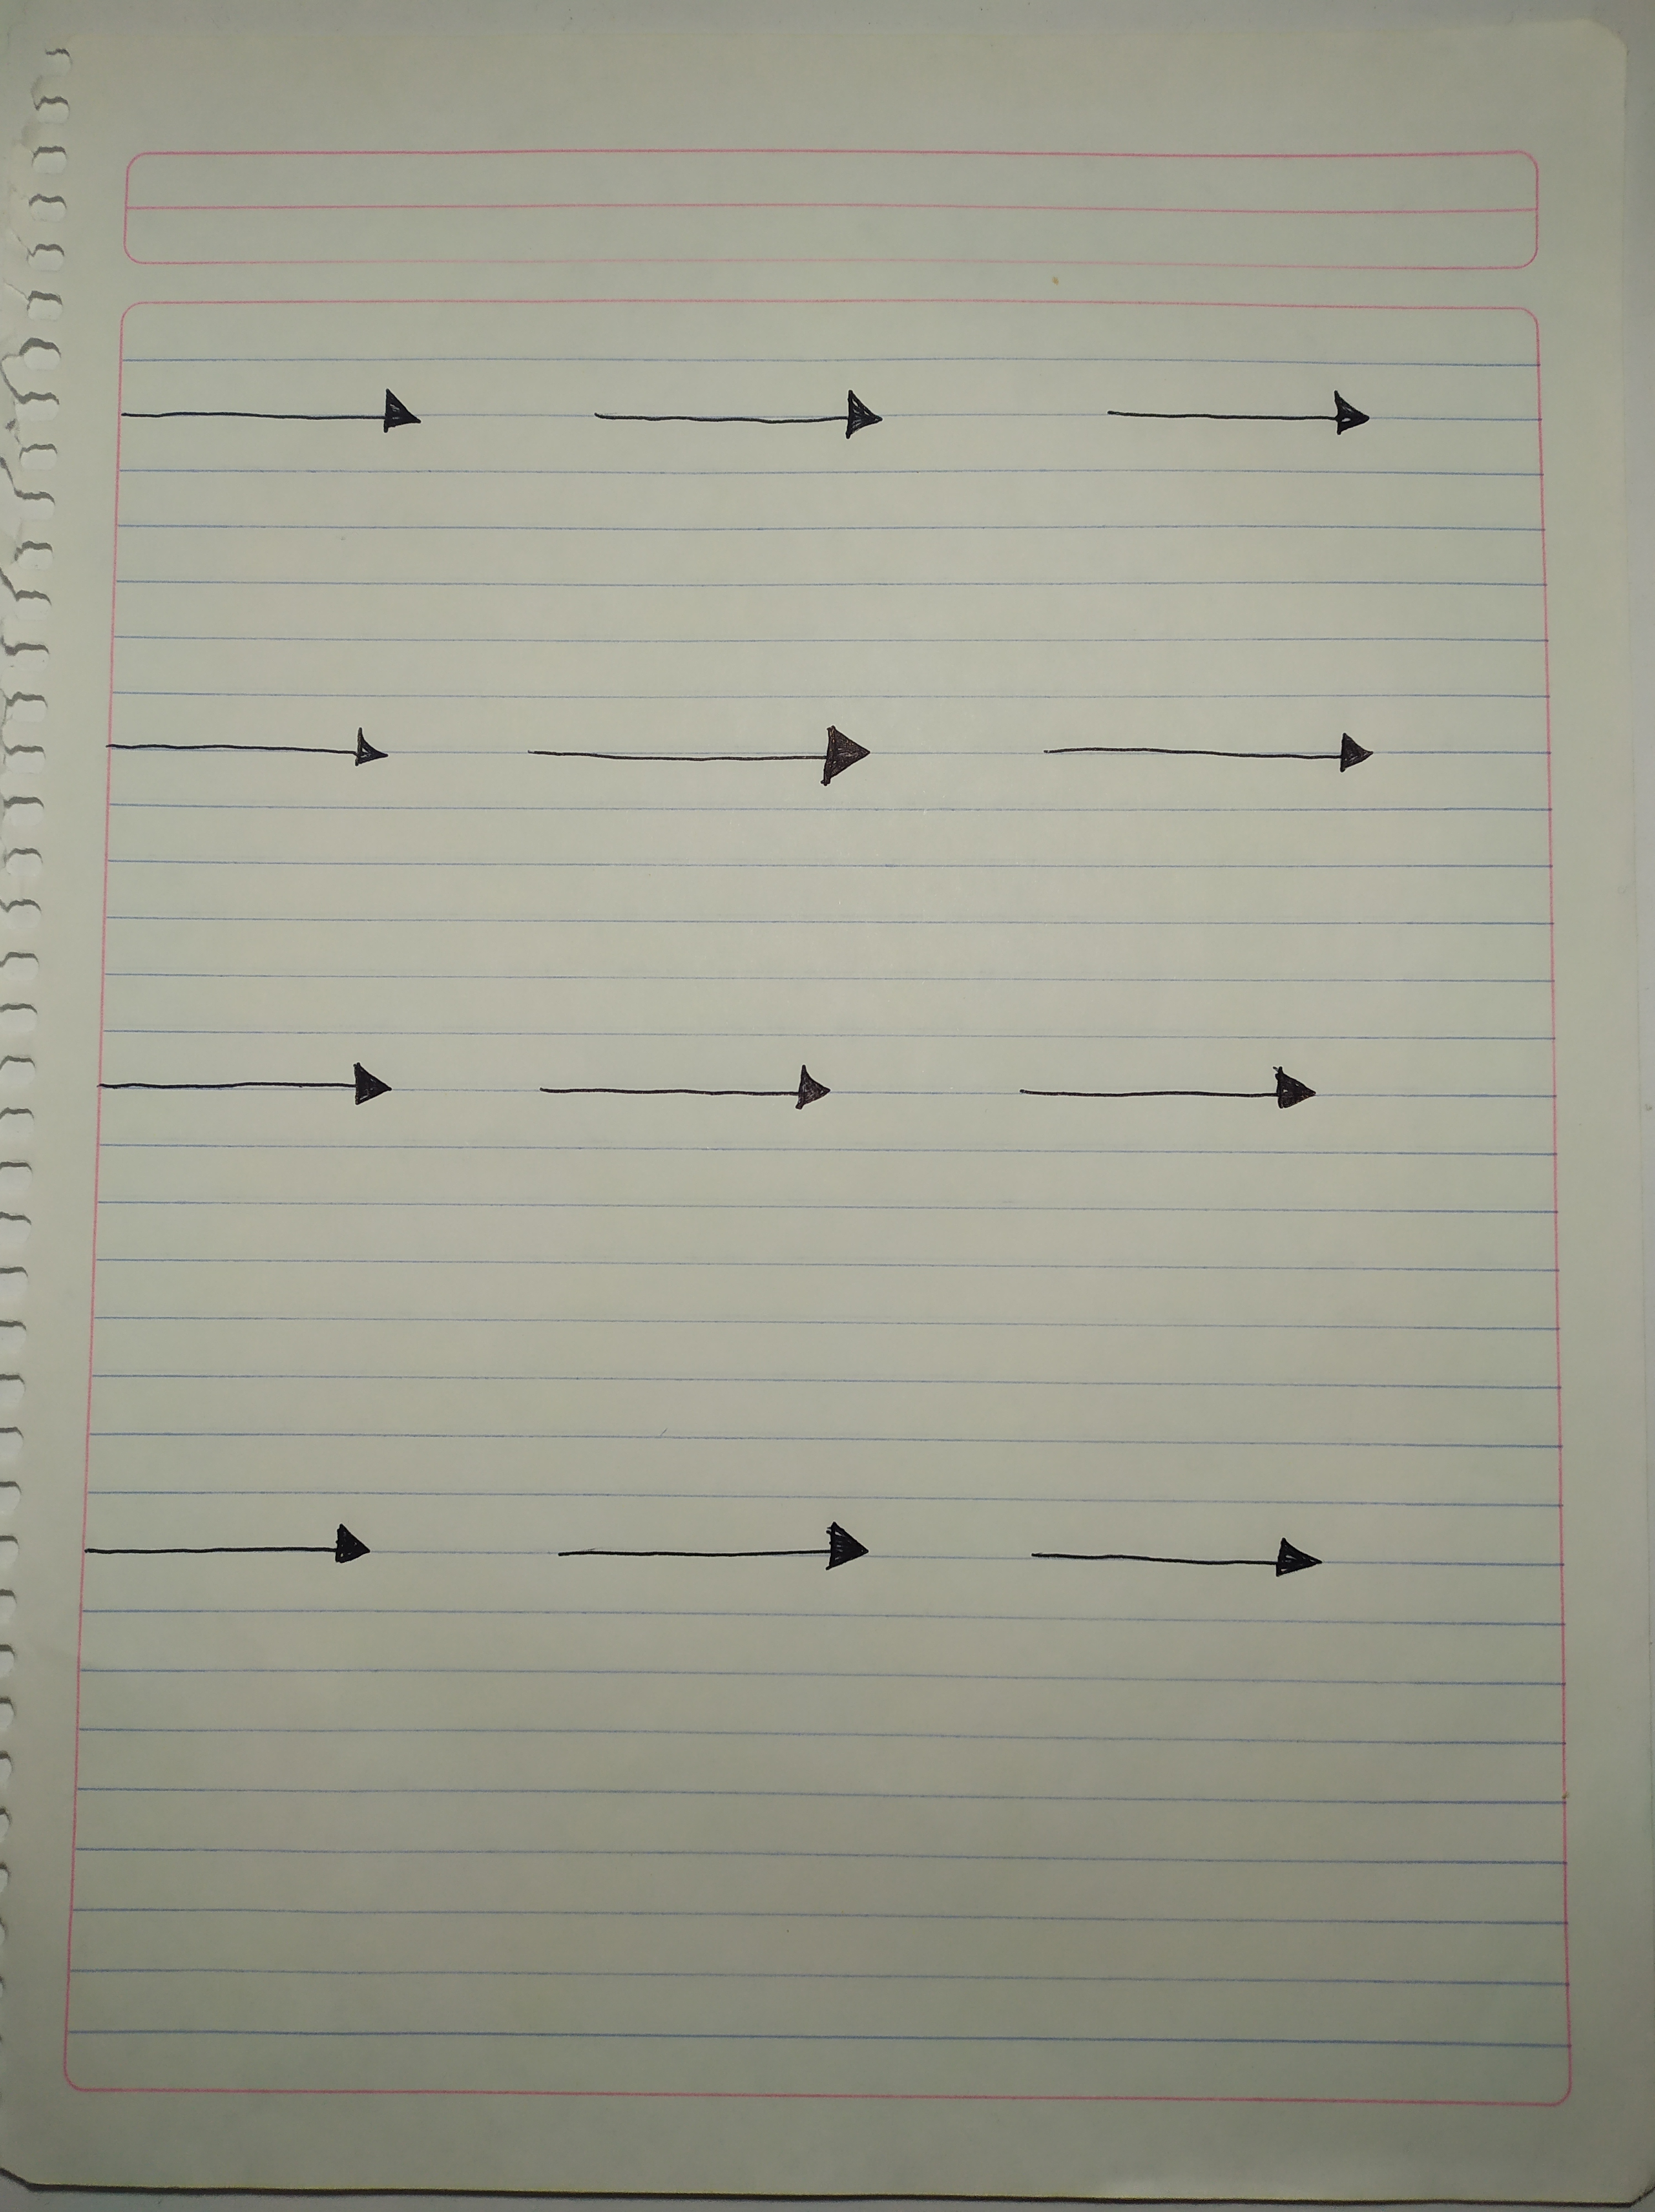arrow_line_right: (492, 700, 932, 813), (527, 1498, 914, 1607), (1003, 1501, 1354, 1619), (1010, 705, 1391, 799), (513, 1048, 881, 1140), (1078, 370, 1396, 473), (89, 702, 422, 794), (1000, 1046, 1347, 1133), (73, 1041, 428, 1123), (103, 370, 449, 454), (568, 374, 951, 443), (66, 1507, 386, 1583)
